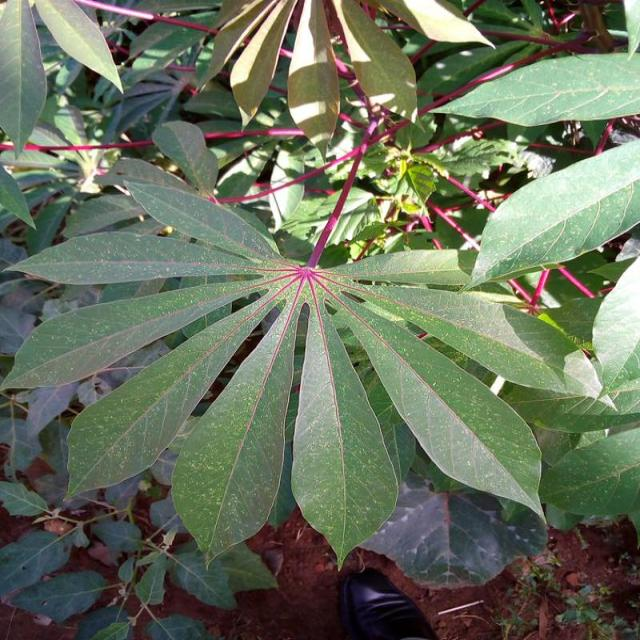cassava leaf: (5, 152, 593, 577), (460, 137, 639, 292), (426, 49, 640, 127)
